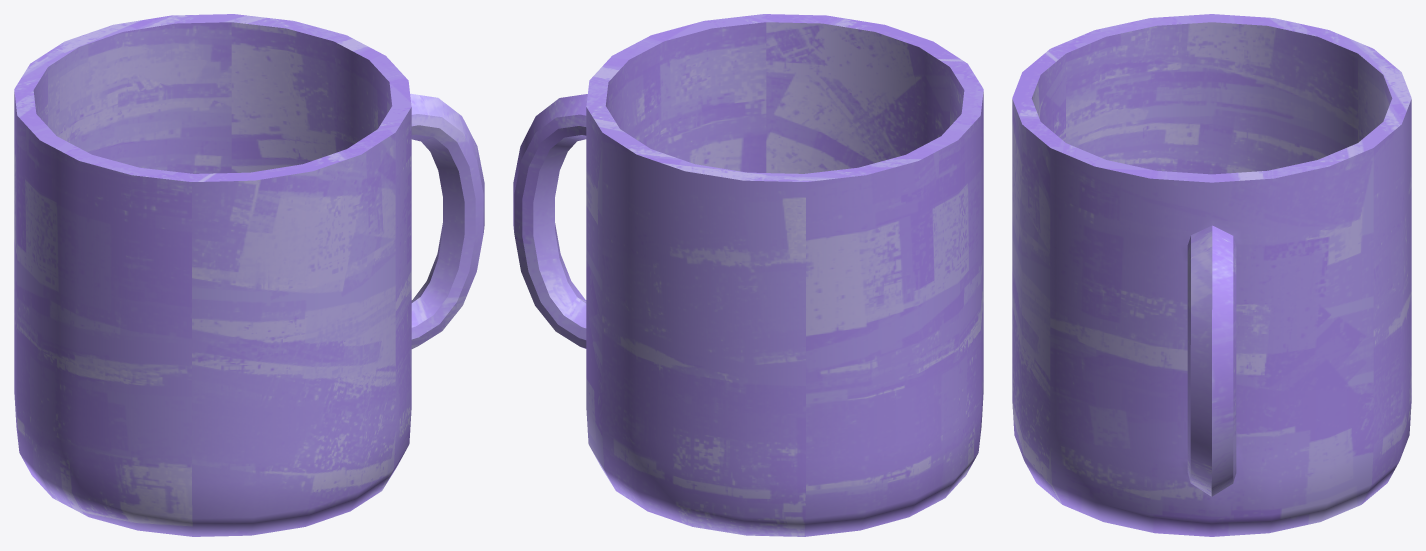
Rendered from PurpleMug.obj.
The picture shows the model from 3 angles, left to right: view 1: azimuth 30°, elevation 25°; view 2: azimuth 150°, elevation 25°; view 3: azimuth 270°, elevation 25°; orthographic projection.
Parts seen in each view (by area): view 1: Mug:pCylinder12; view 2: Mug:pCylinder12; view 3: Mug:pCylinder12.
Boxes of the visible parts, x1,y1,x2,y2 form: Mug:pCylinder12: (14, 14, 484, 536); Mug:pCylinder12: (513, 14, 983, 536); Mug:pCylinder12: (1012, 14, 1411, 536).
Size of the model in its own units: 1.33 by 1.03 by 1.04.
